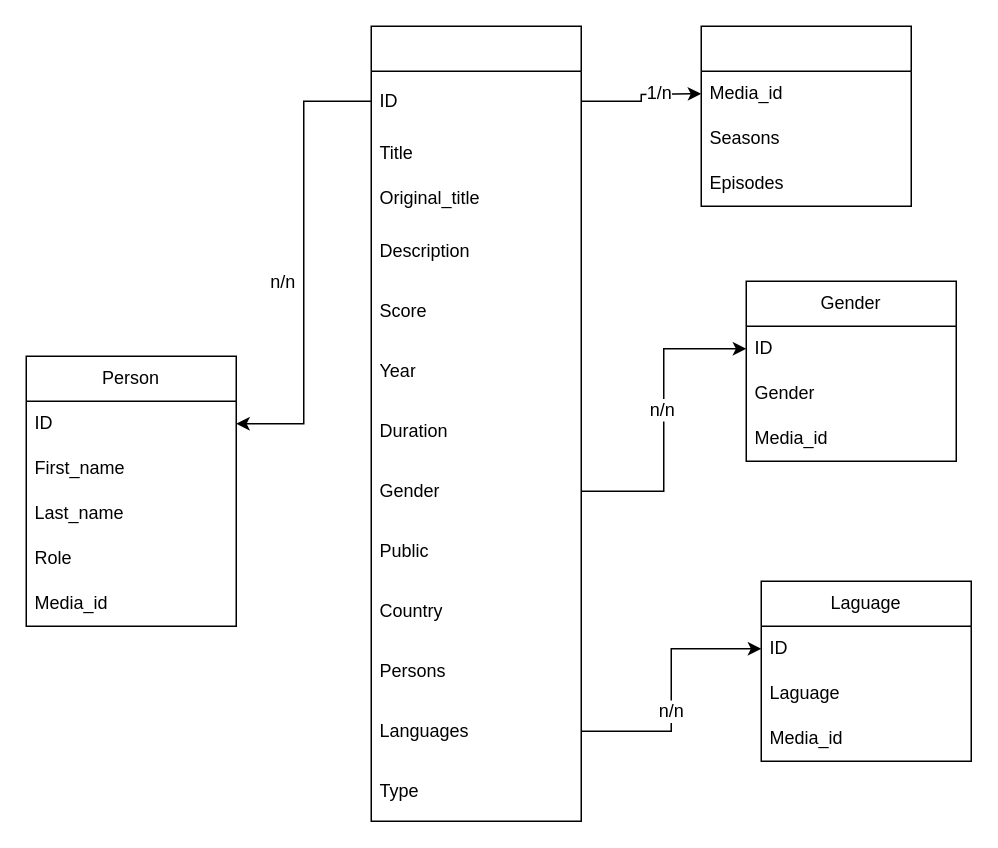
The diagram is 998 pixels wide and 848 high, and some of its shapes have lost their labels. Each missing label, with the box of its shape:
Media: (370, 25, 581, 821)
Serie: (700, 25, 911, 206)
